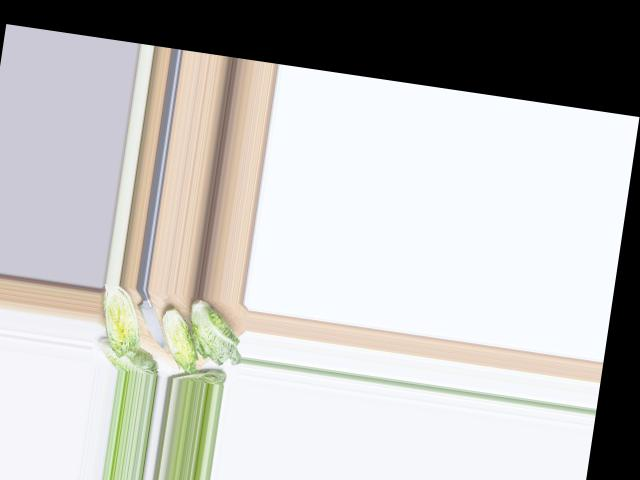lettuce: (96, 337, 160, 373)
